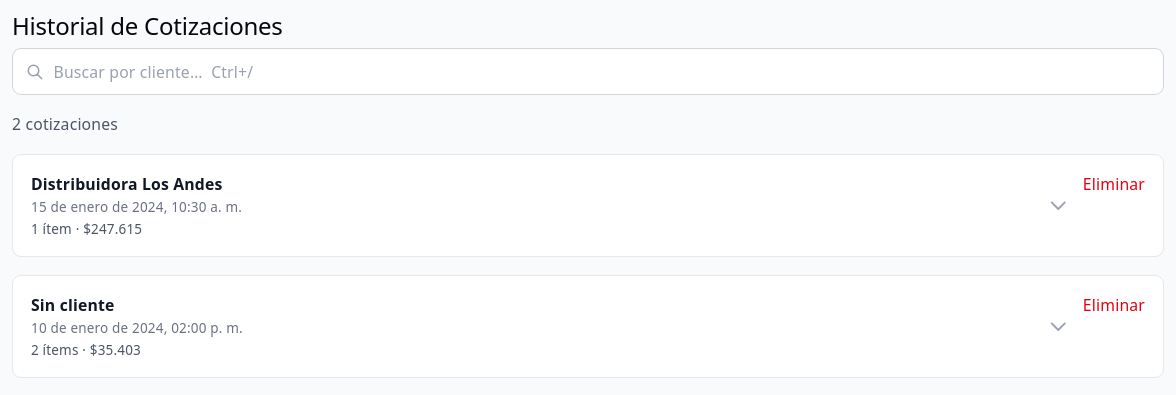
Test: QuoteHistory › client search › filters by client and updates the result counter
Check: the text "Distribuidora Los Andes" is shown, box [31,173,242,195]
Check: the text "2 cotizaciones" is shown, box [12,113,118,135]
Type "andes" into the field named "buscar cotizaciones por cliente".
click(588, 72); type("andes")  # box [12,48,1164,95]
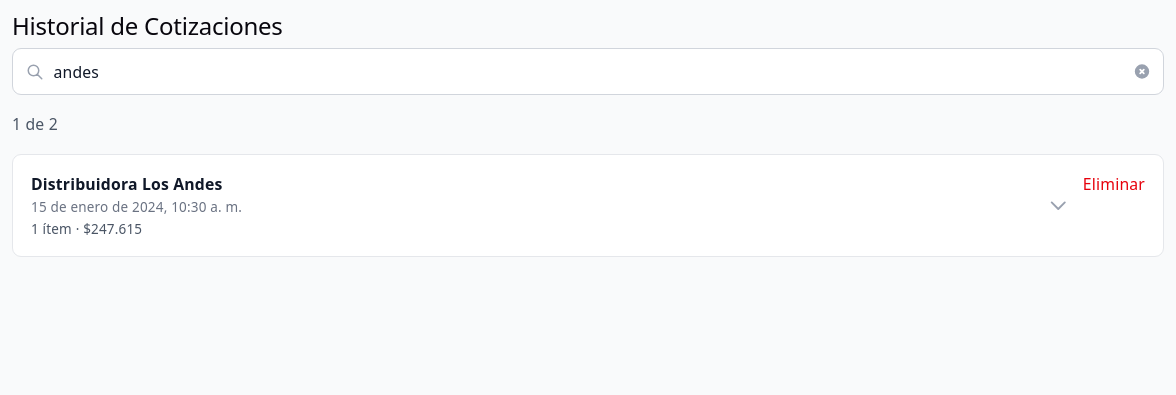
Check: the text "Distribuidora Los Andes" is shown, box [31,173,242,195]
Check: the text "1 de 2" is shown, box [12,113,58,135]
Check: the button "Sin cliente" is gone
